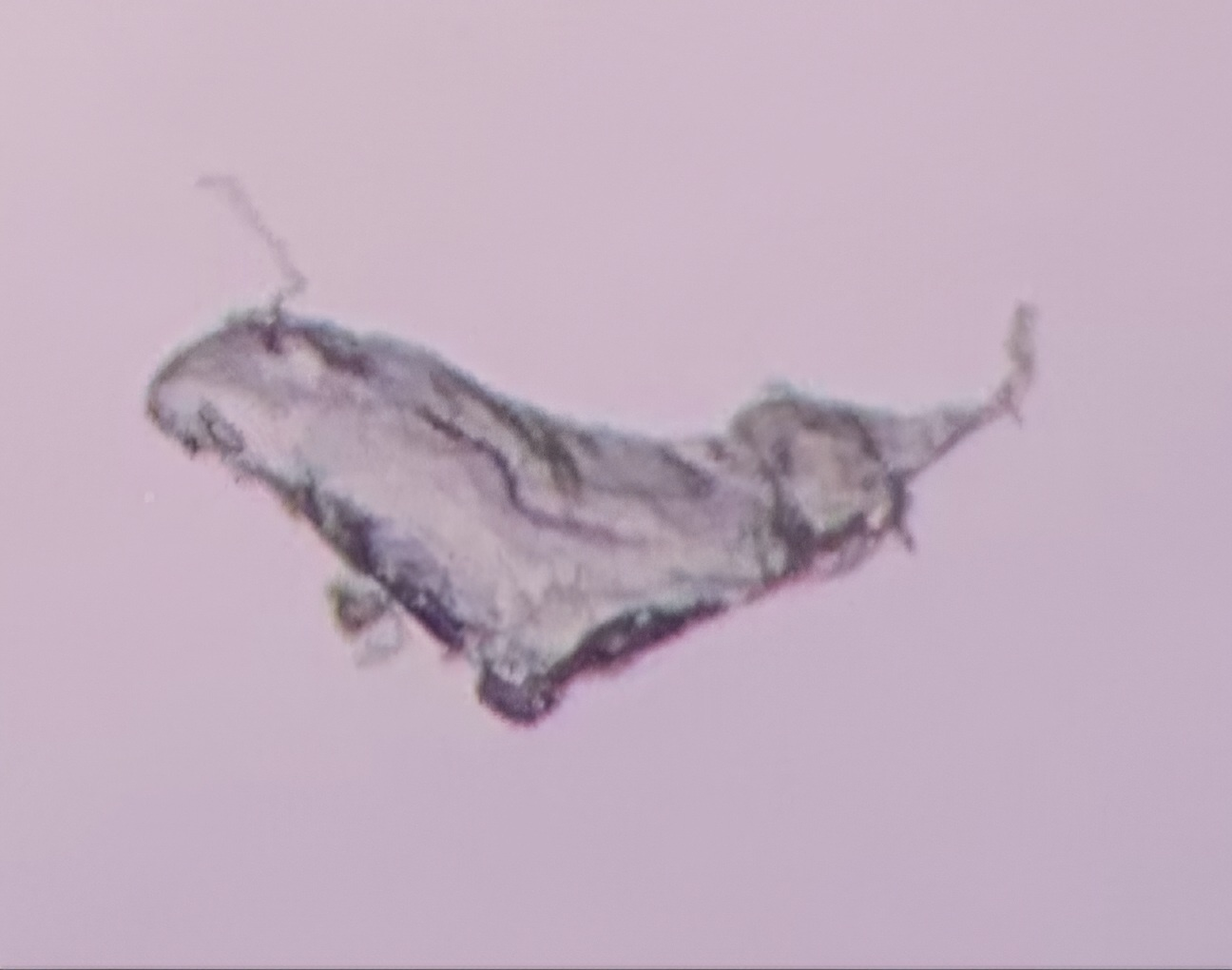microplastic: (143, 174, 1045, 731)
